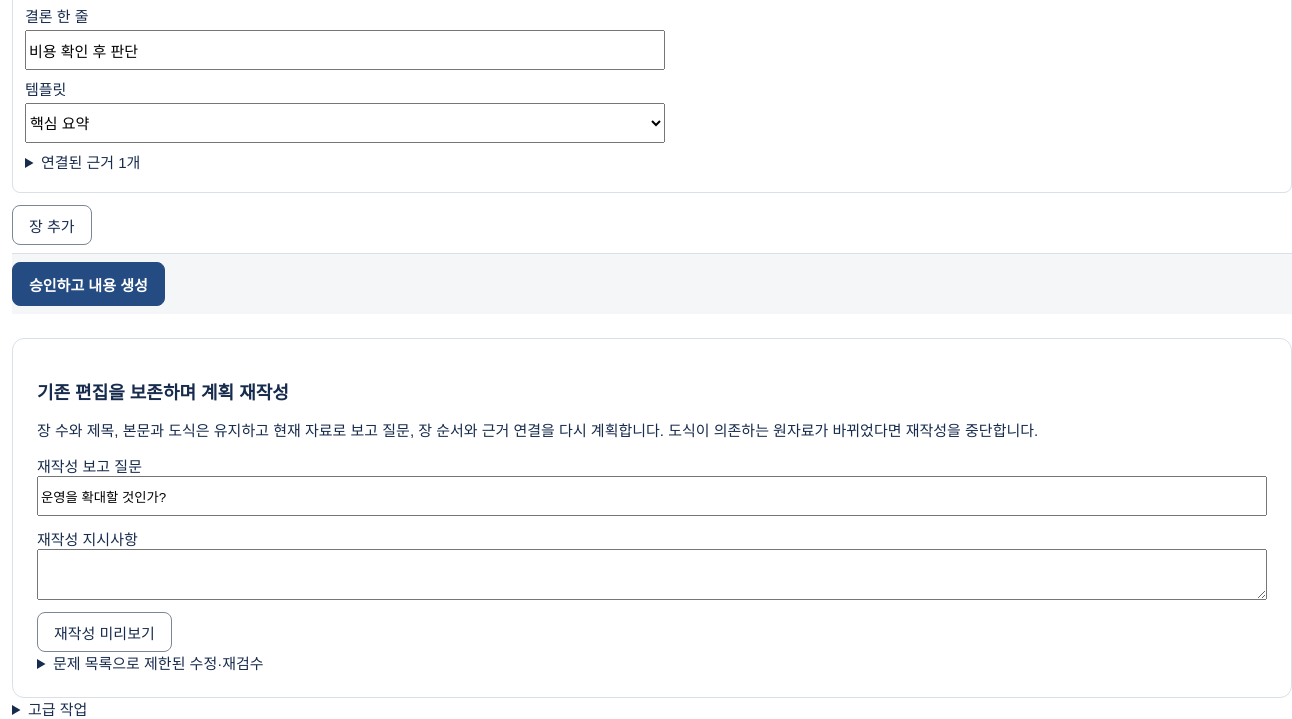
Scenario: 패널을 닫으면 조회만 멈추고 작업은 취소하지 않는다
(page scrolled)
Step 1. Click the heading "문제 목록으로 제한된 수정·재검수" → coordinates (158, 664), box [53,655,264,672]
(page scrolled)
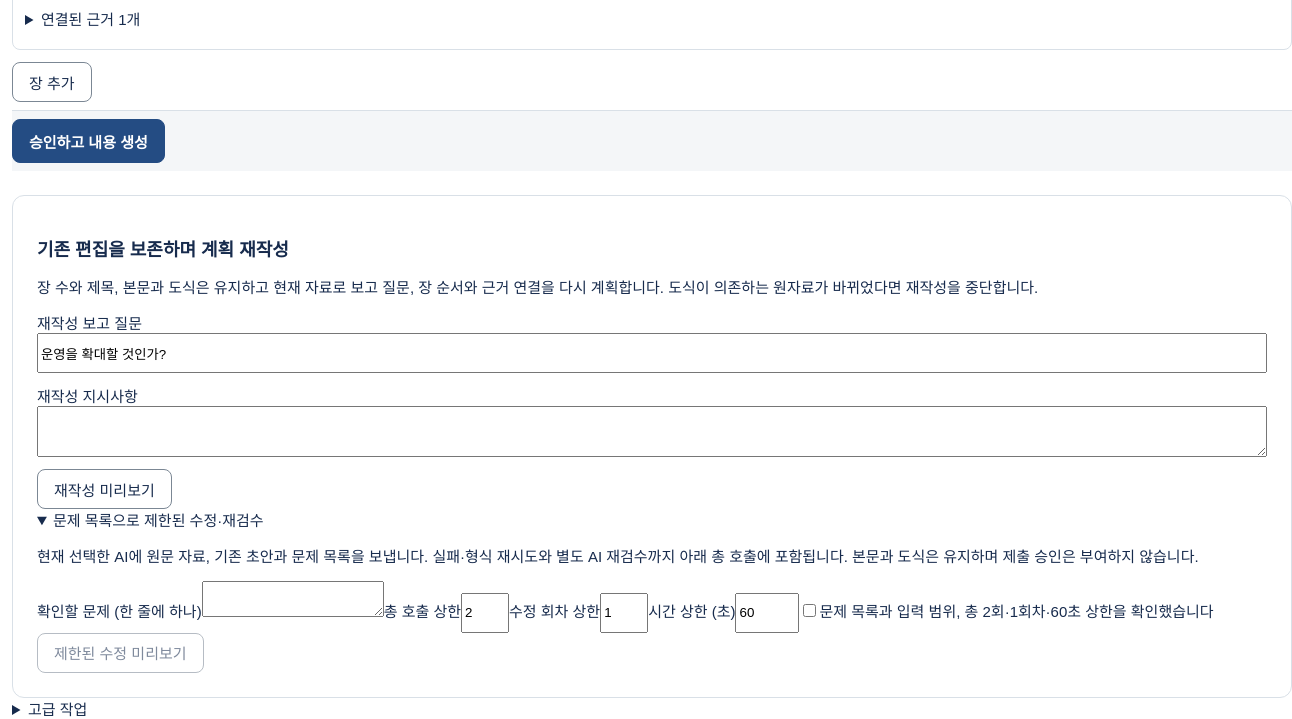
Step 2. Type "근거가 약하다" into the text box named "수정 문제 목록" → coordinates (293, 599), box [202,581,384,617]
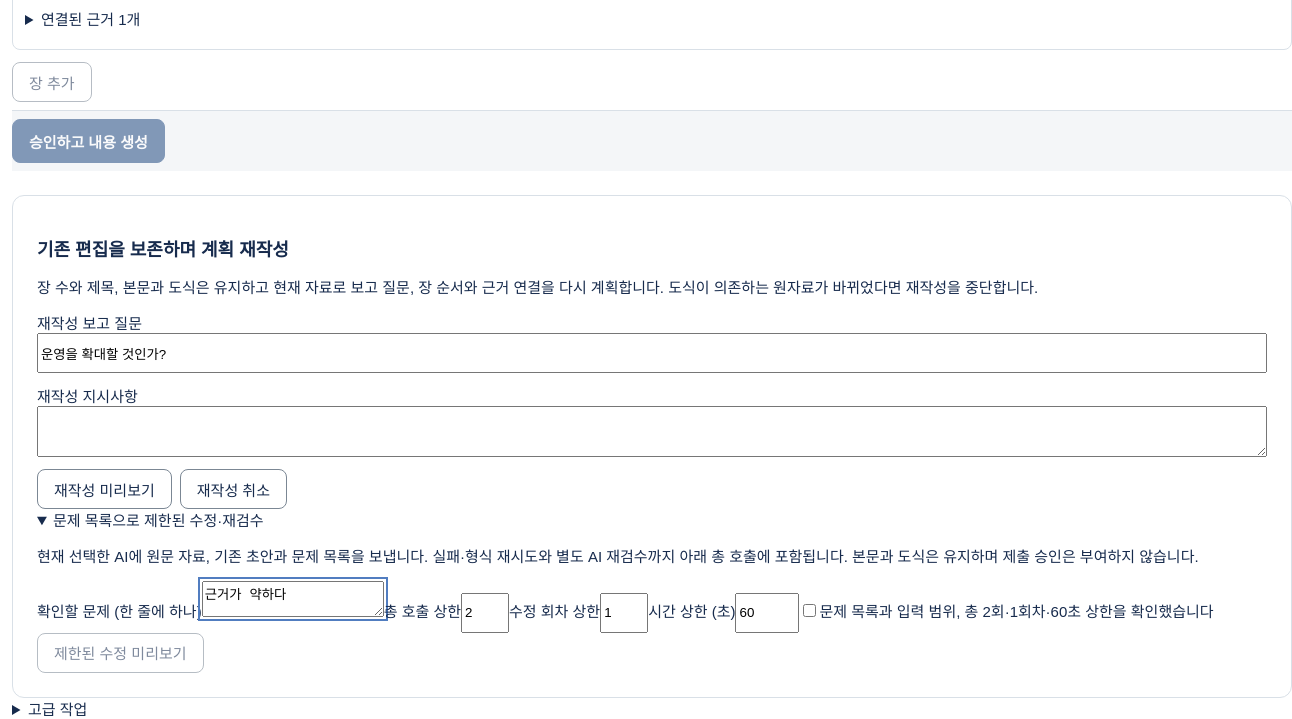
Step 3. Click the checkbox labelled "문제 목록과 입력 범위, 총 2회·1회차·60초 상한을 확인했습니다" → coordinates (810, 611), box [804,604,816,617]
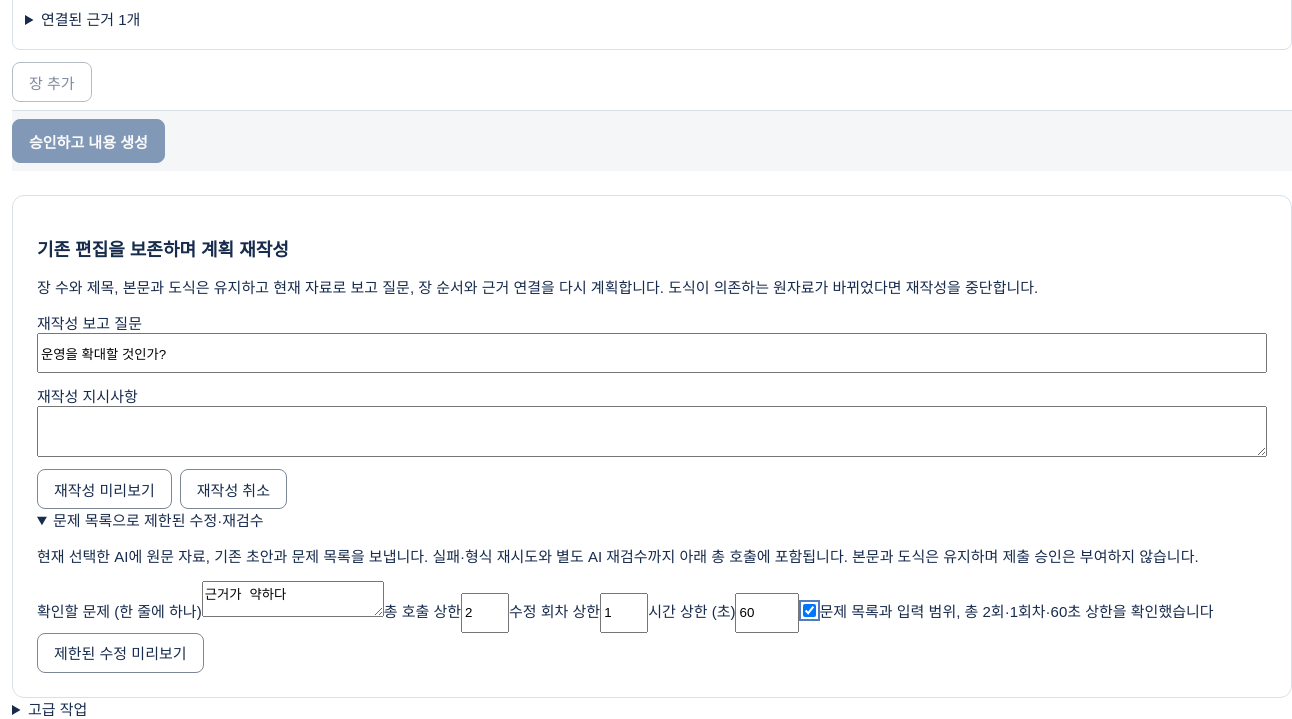
Step 4. Click the button "제한된 수정 미리보기" → coordinates (120, 653), box [37,633,204,673]
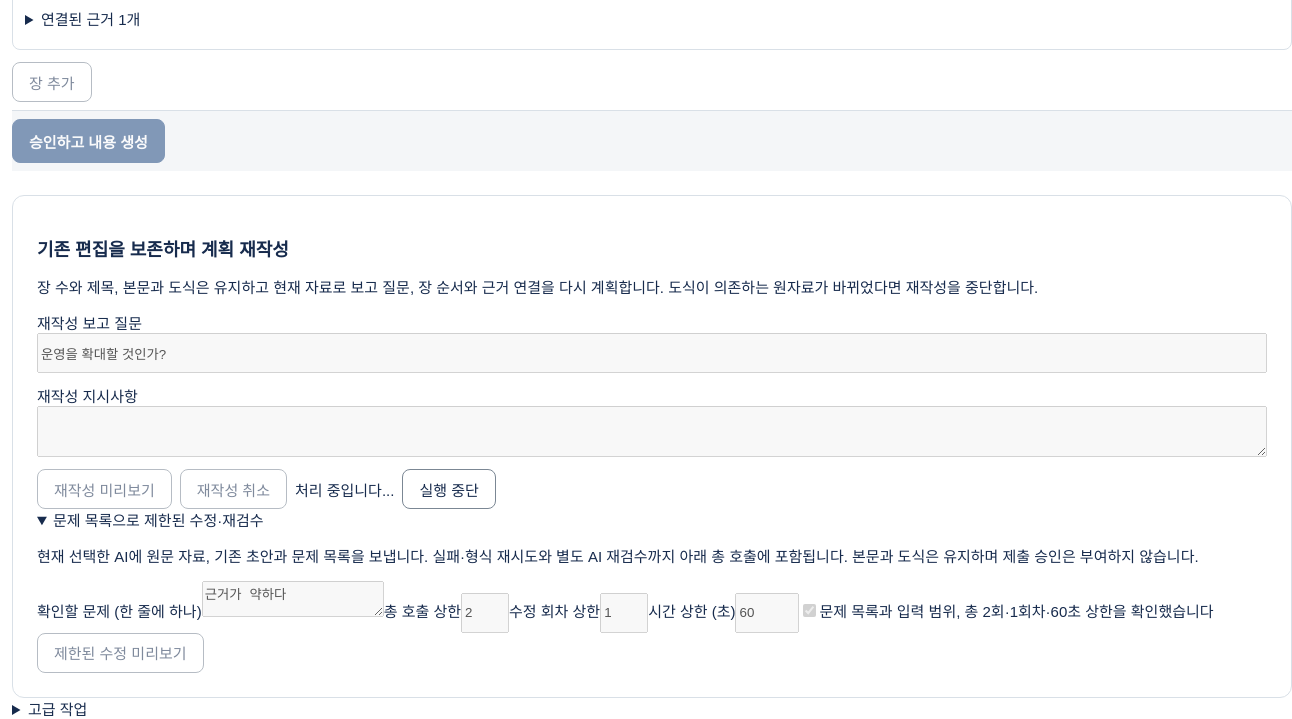
Expected: the button "실행 중단" is shown, [402,469,496,509]
